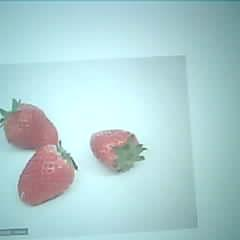straw-ripe: (18, 146, 74, 203), (5, 104, 58, 147), (90, 129, 138, 170)
